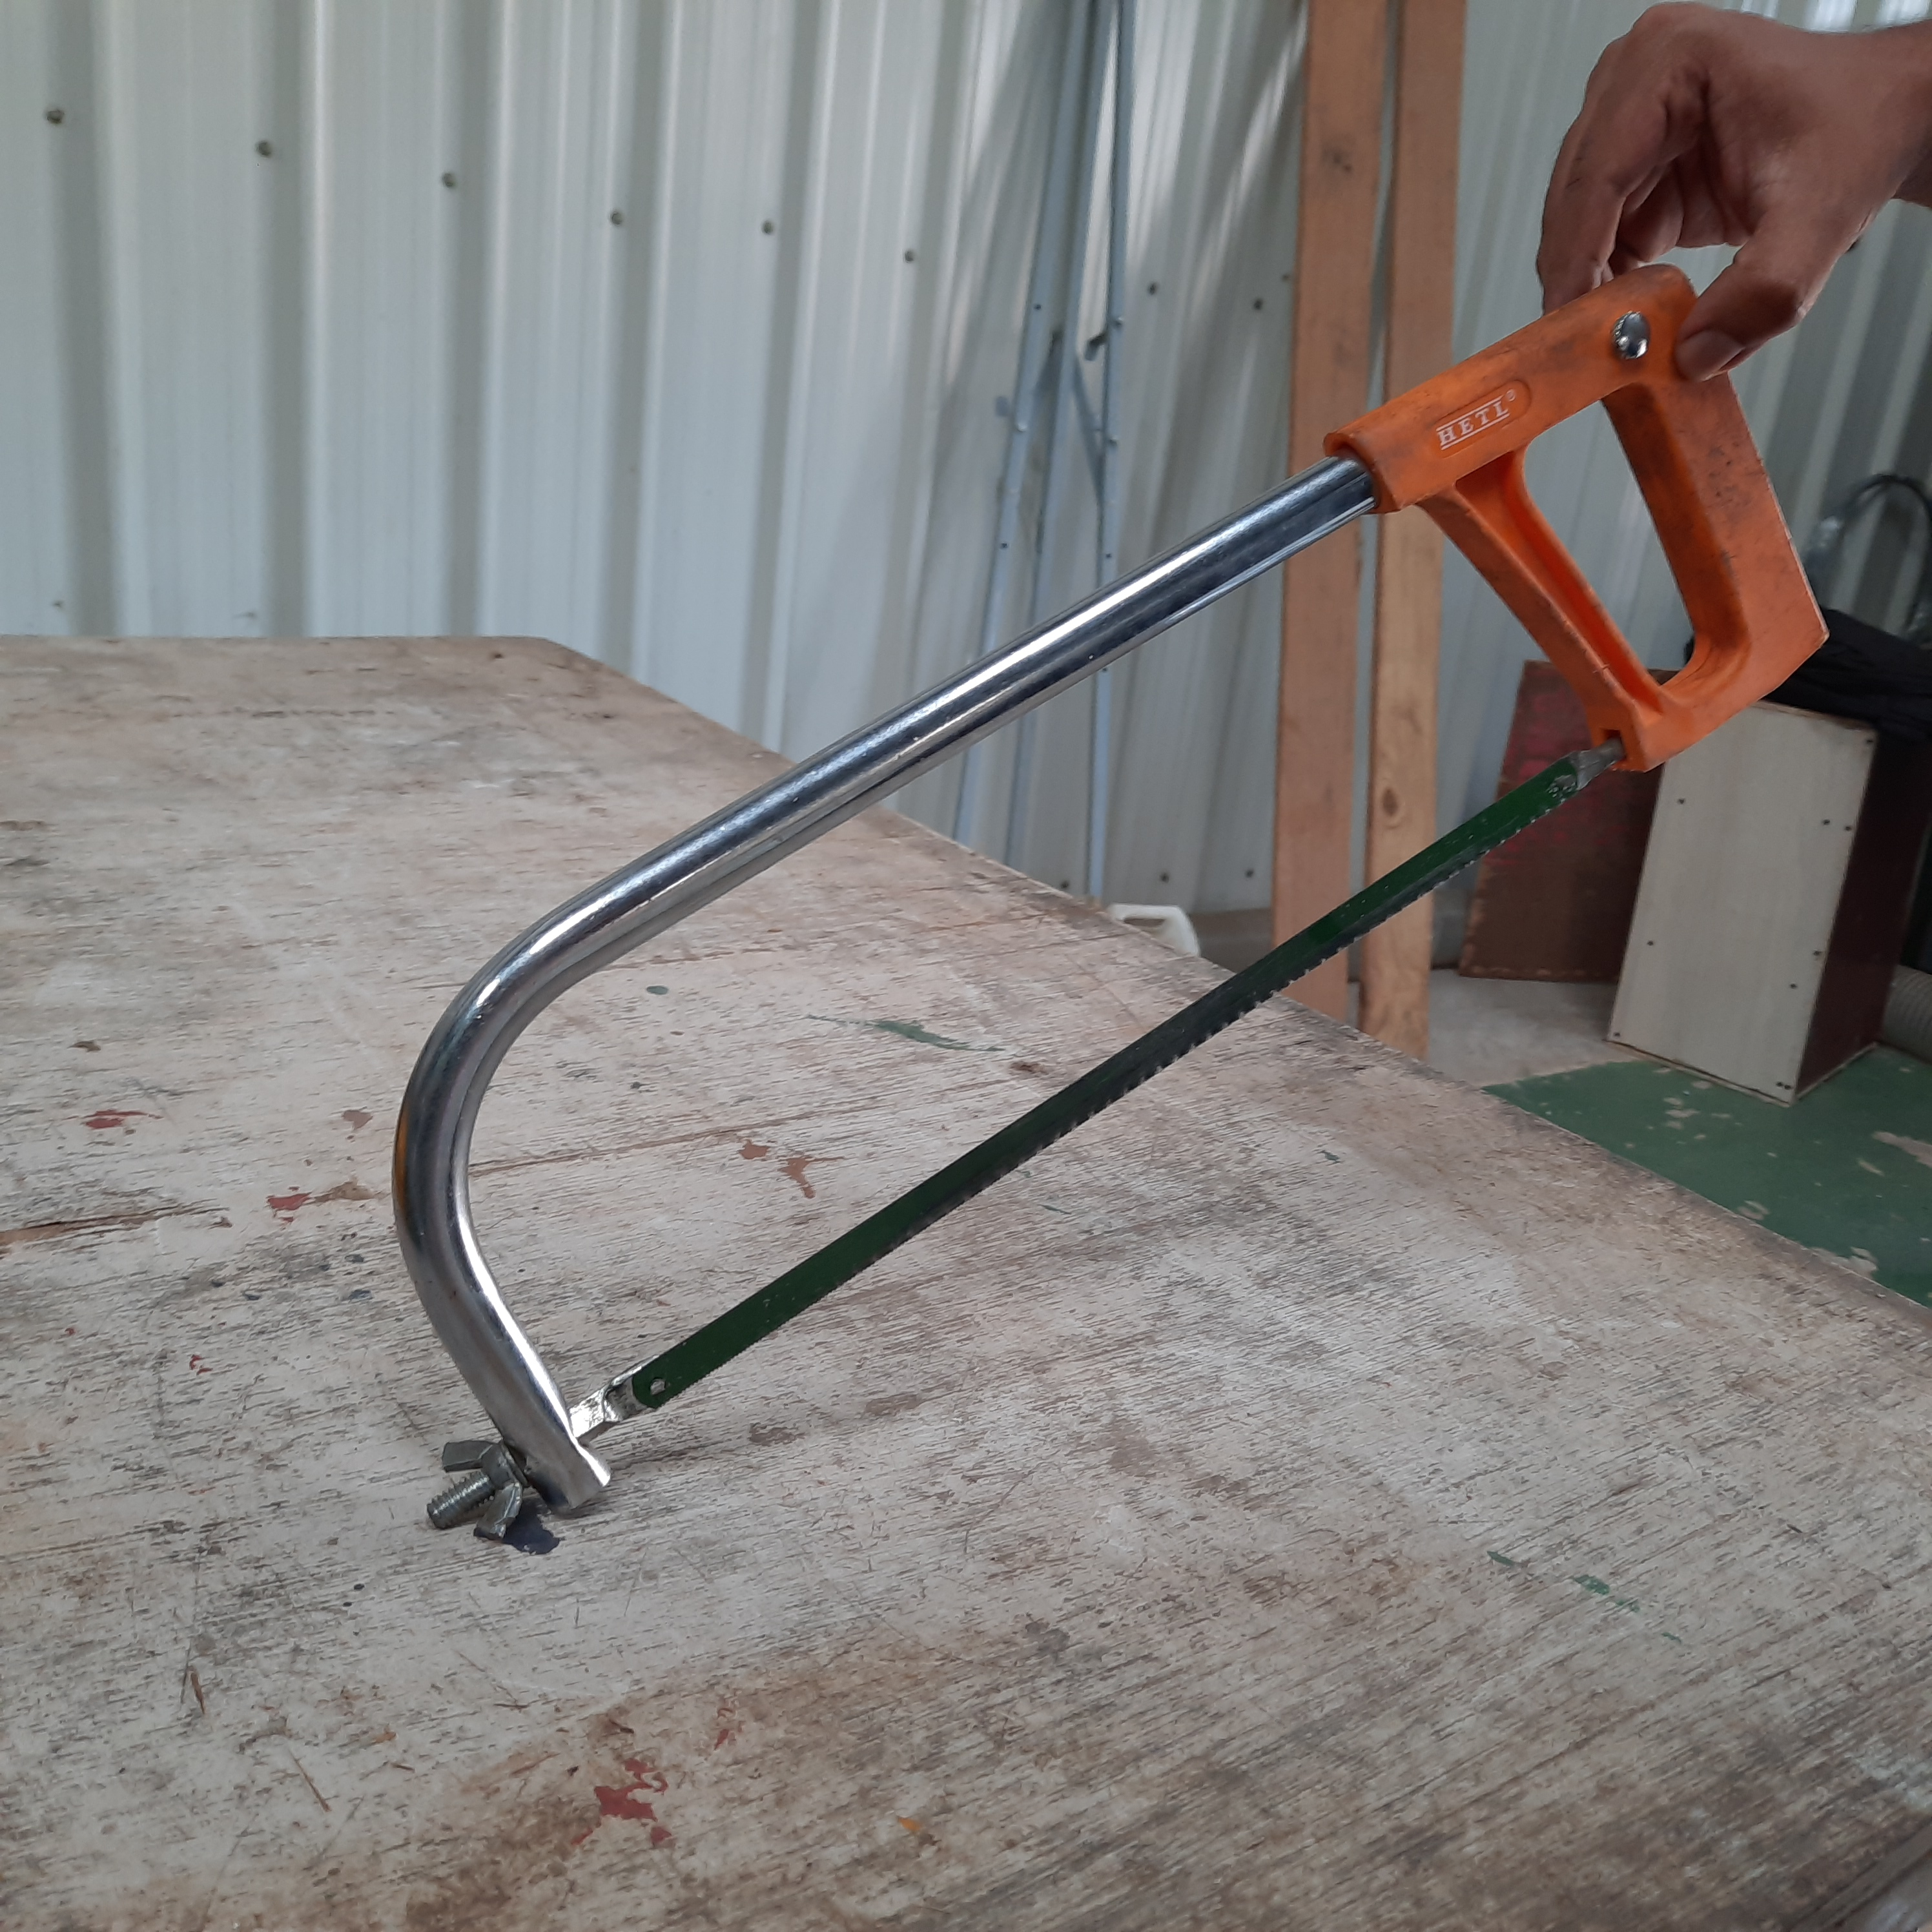Hexaframe: (318, 262, 1845, 1619)
